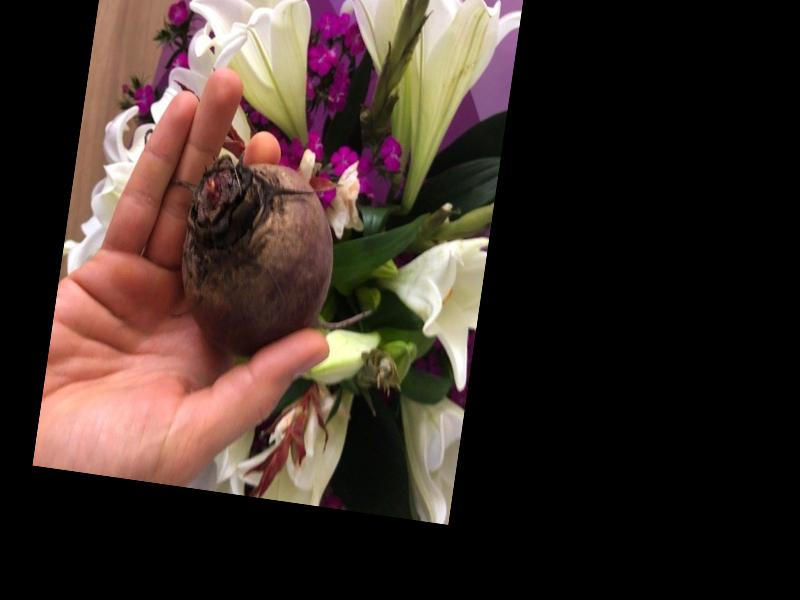Beet: (168, 152, 392, 373)
